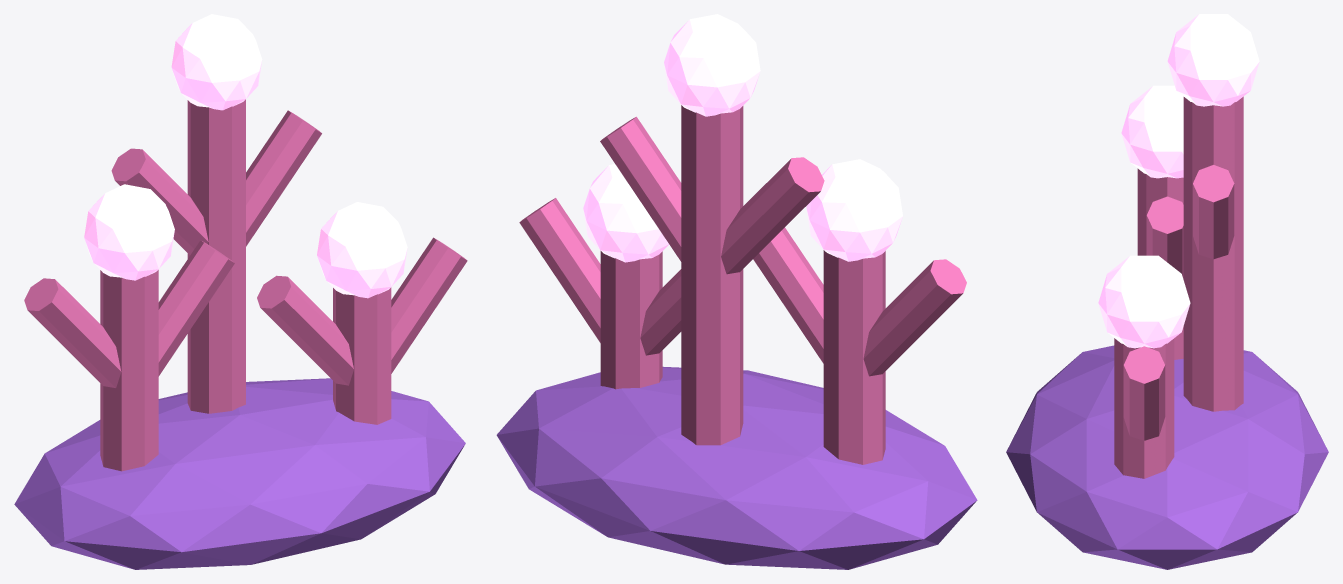
The model's file is coral_cluster.glb.
3 views of the same model, side by side, from view 1: azimuth 30°, elevation 25°; view 2: azimuth 150°, elevation 25°; view 3: azimuth 270°, elevation 25° (orthographic). The views are drawn at different scales.
Visible parts, largest first — view 1: CoralRock, CoralStem.001, CoralStem, CoralTip.001, CoralTip, CoralTip.002, CoralStem.002, CoralBranch, CoralBranch.004, CoralBranch.001, CoralBranch.005, CoralBranch.003 (+1 smaller); view 2: CoralRock, CoralStem.001, CoralStem, CoralTip.001, CoralTip, CoralStem.002, CoralBranch, CoralBranch.002, CoralTip.002, CoralBranch.003, CoralBranch.005, CoralBranch.001 (+1 smaller); view 3: CoralRock, CoralStem.001, CoralTip.002, CoralTip.001, CoralTip, CoralStem.002, CoralBranch.005, CoralBranch.003, CoralBranch.001, CoralStem.
Boxes of the visible parts, x1,y1,x2,y2 form: CoralRock: (14, 378, 465, 569); CoralStem.001: (187, 99, 245, 413); CoralStem: (100, 270, 158, 471); CoralTip.001: (171, 14, 262, 110); CoralTip: (84, 184, 174, 280); CoralTip.002: (317, 202, 407, 298); CoralStem.002: (333, 287, 391, 424); CoralBranch: (24, 278, 121, 387); CoralBranch.004: (257, 275, 353, 385); CoralBranch.001: (158, 240, 234, 376); CoralBranch.005: (391, 237, 467, 373); CoralBranch.003: (246, 110, 321, 246); CoralRock: (496, 366, 977, 569); CoralStem.001: (681, 105, 743, 445); CoralStem: (823, 250, 885, 464); CoralTip.001: (664, 14, 760, 116); CoralTip: (806, 159, 902, 261); CoralStem.002: (600, 251, 662, 389); CoralBranch: (863, 259, 966, 376); CoralBranch.002: (721, 157, 824, 274); CoralTip.002: (583, 164, 669, 262); CoralBranch.003: (600, 116, 681, 261); CoralBranch.005: (519, 198, 600, 342); CoralBranch.001: (753, 227, 823, 363); CoralRock: (1006, 345, 1328, 569); CoralStem.001: (1183, 96, 1243, 411); CoralTip.002: (1098, 255, 1190, 348); CoralTip.001: (1167, 14, 1259, 106); CoralTip: (1121, 85, 1183, 178); CoralStem.002: (1114, 338, 1174, 478); CoralBranch.005: (1123, 346, 1165, 440); CoralBranch.003: (1193, 165, 1234, 259); CoralBranch.001: (1146, 196, 1183, 279); CoralStem: (1137, 168, 1183, 359).
Size of the model in its own units: 2.12 by 2.37 by 1.4.
